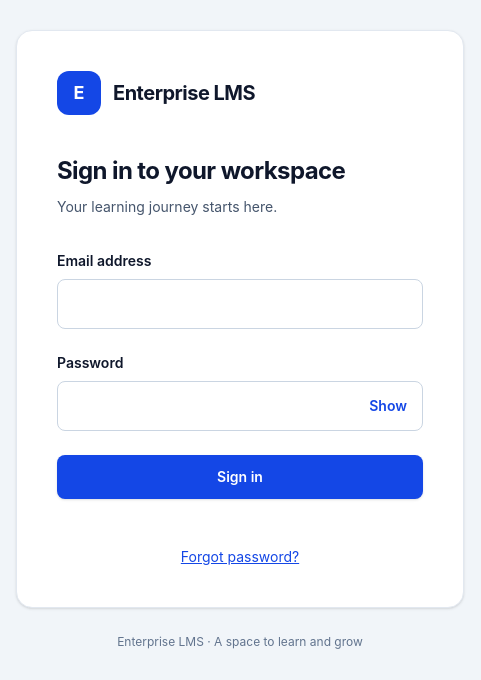
LoginComponent › shows an inline error for a malformed email after blur and clears it when corrected
Type "invalid" into the field with id "email" at (240, 304), box [57,279,423,329]
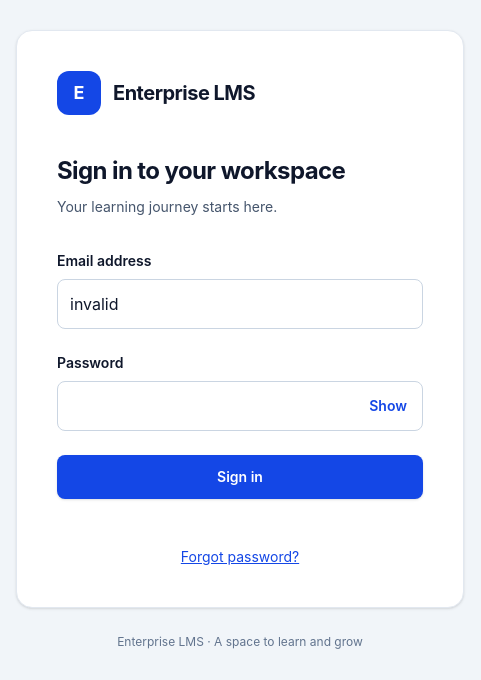
Leave the field with id "email", box [57,279,423,329]
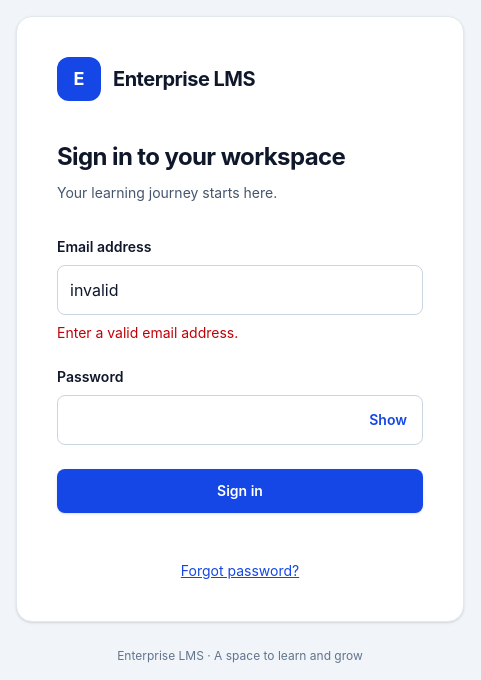
Check: the message with id "email-error" reads "Enter a valid email address.", box [57,324,238,341]
Replace the text in the field with id "email" with "learner@example.com" at (240, 290), box [57,265,423,315]
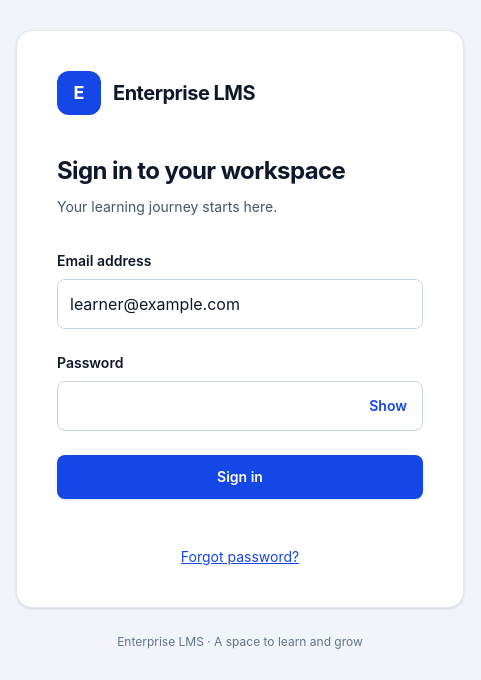
Check: the message with id "email-error" is gone
